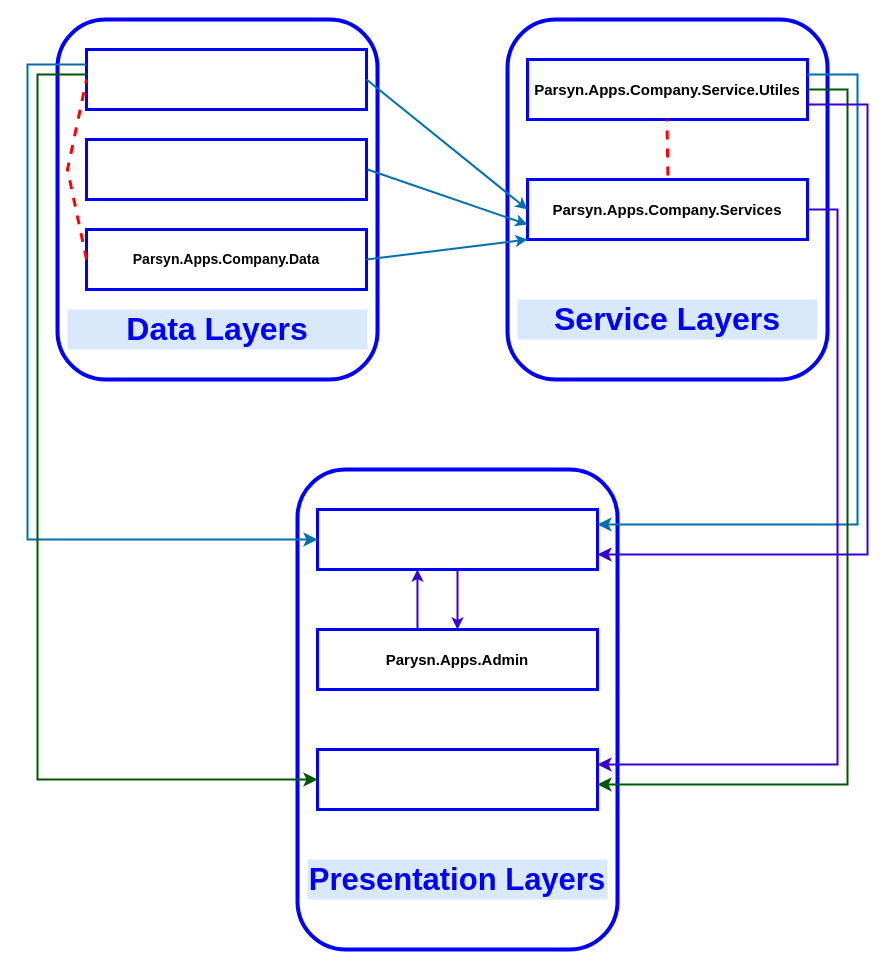
The diagram is 895 pixels wide and 968 high, and some of its shapes have lost their labels. Each missing label, with the centre of its shape:
"Parsyn.Apps.Api" belongs at pixel 457 539.
"Parsyn.Apps.Company.Data.Models" belongs at pixel 226 79.
"Parsyn.Apps.Company.Data.Models.Dtos" belongs at pixel 226 169.
"Parsyn.Apps.Web" belongs at pixel 457 779.
